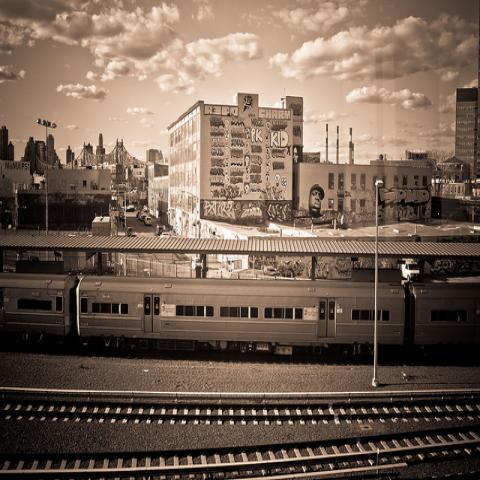car: (155, 224, 166, 236), (144, 216, 153, 225), (127, 226, 135, 236), (160, 232, 171, 239), (140, 215, 148, 221), (139, 214, 145, 221), (126, 208, 134, 212), (136, 211, 140, 217)
